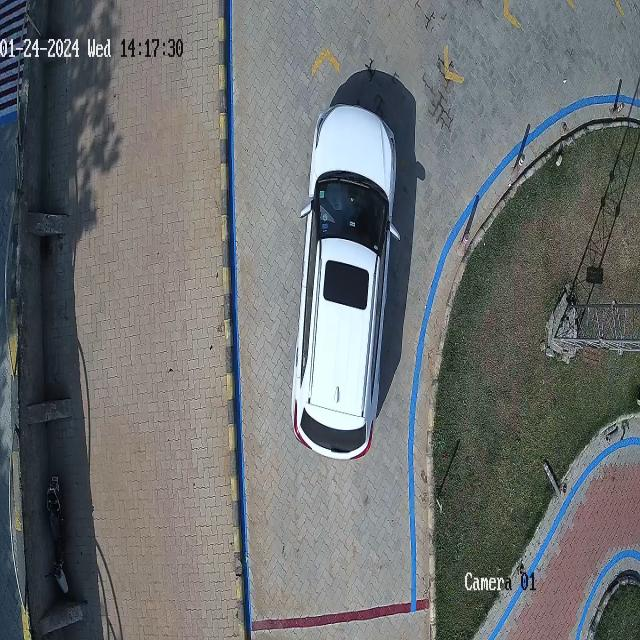car: (292, 106, 397, 460)
